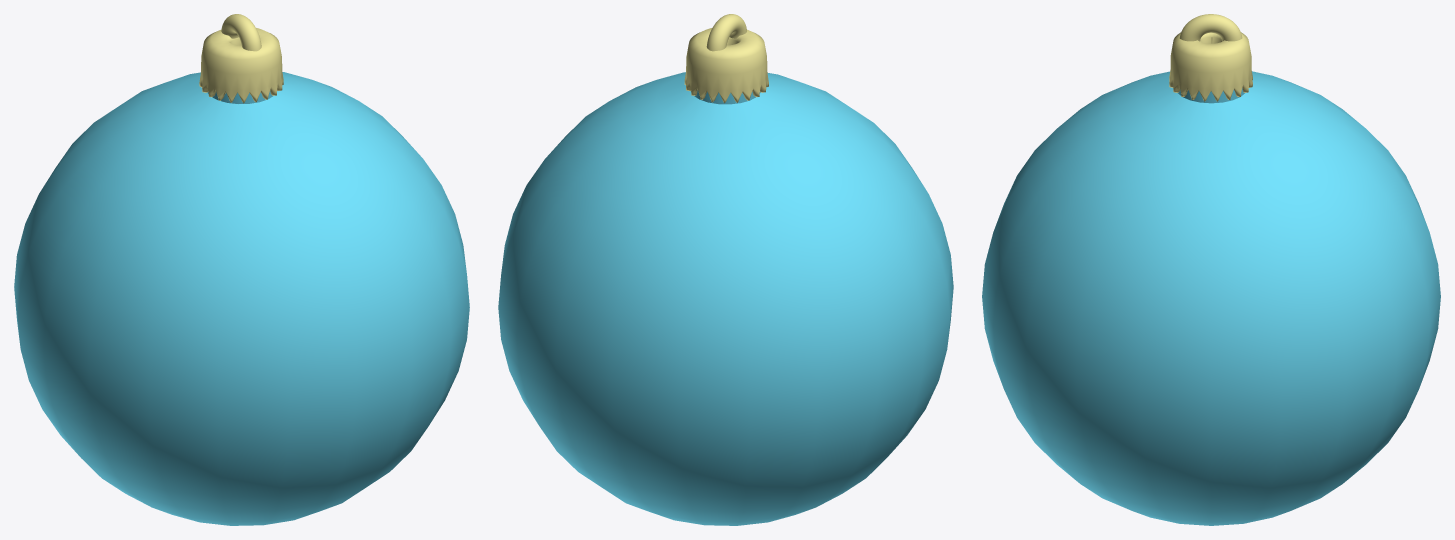
The model's file is Foco2.obj.
3 views of the same model, side by side, from view 1: azimuth 30°, elevation 25°; view 2: azimuth 150°, elevation 25°; view 3: azimuth 270°, elevation 25° (orthographic).
Parts seen in each view (by area): view 1: Foco1:Glass_Ball1Red_Bulb1, Foco1:Red_Bulbtop_crownpPipe3, Foco1:Red_BulbpTorus1top_crown1; view 2: Foco1:Glass_Ball1Red_Bulb1, Foco1:Red_Bulbtop_crownpPipe3, Foco1:Red_BulbpTorus1top_crown1; view 3: Foco1:Glass_Ball1Red_Bulb1, Foco1:Red_Bulbtop_crownpPipe3, Foco1:Red_BulbpTorus1top_crown1.
Part boxes in pixels (x1,y1,x2,y2): Foco1:Glass_Ball1Red_Bulb1: [14, 72, 469, 525]; Foco1:Red_Bulbtop_crownpPipe3: [199, 28, 283, 103]; Foco1:Red_BulbpTorus1top_crown1: [221, 14, 261, 51]; Foco1:Glass_Ball1Red_Bulb1: [498, 72, 953, 525]; Foco1:Red_Bulbtop_crownpPipe3: [684, 28, 768, 103]; Foco1:Red_BulbpTorus1top_crown1: [706, 14, 746, 51]; Foco1:Glass_Ball1Red_Bulb1: [982, 71, 1440, 525]; Foco1:Red_Bulbtop_crownpPipe3: [1169, 32, 1252, 101]; Foco1:Red_BulbpTorus1top_crown1: [1179, 14, 1242, 41].
Size of the model in its own units: 13.51 by 15.9 by 13.51.
2 materials, 2 textured.
